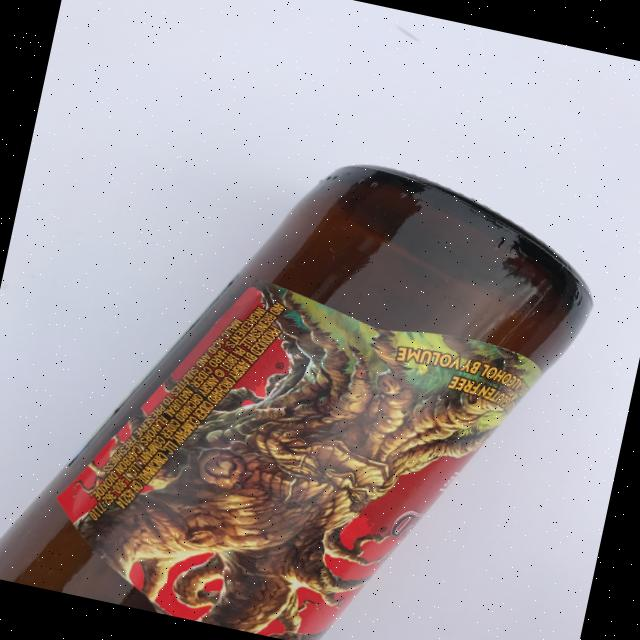glass: (0, 107, 590, 640)
